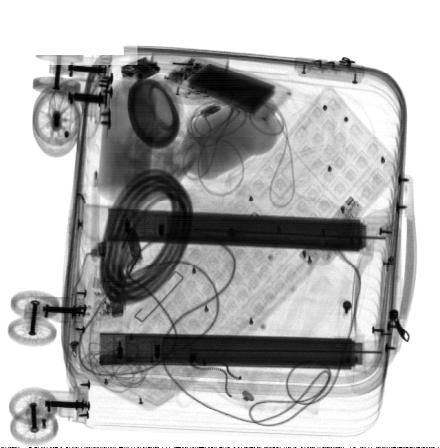Powerbank: (162, 55, 293, 123)
